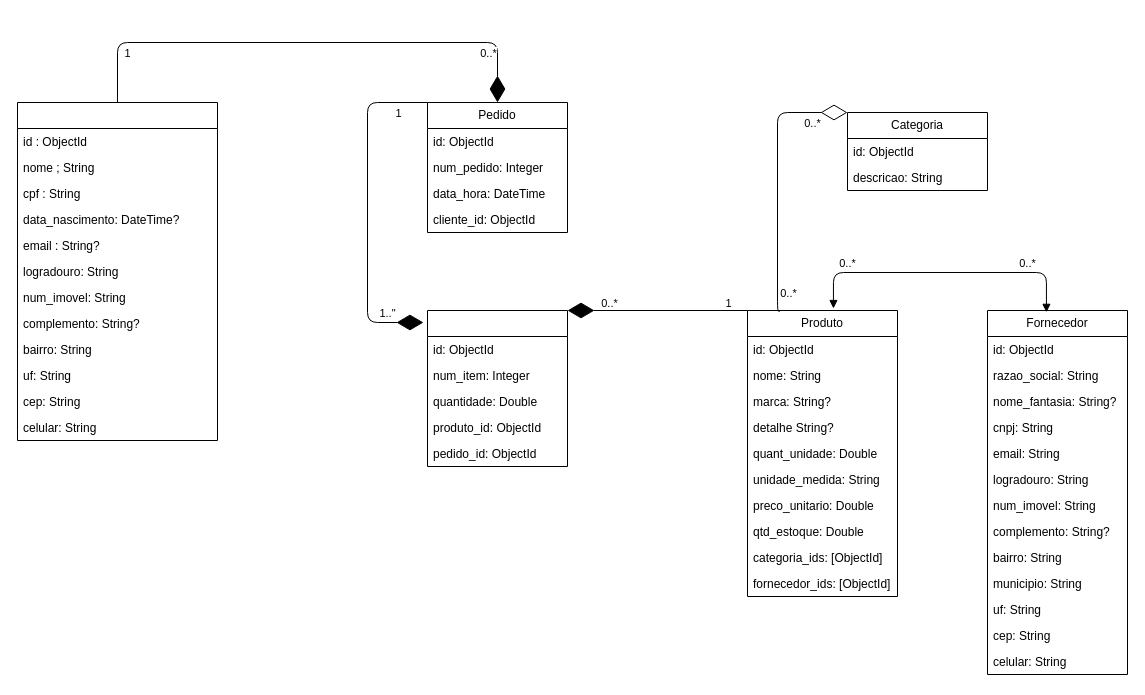
Some shapes in this 1145 by 695 pixel diagram are drawn without their labels. Here are the shapes that lost their labels. From the top down, the box of each, then its label:
(16, 102, 218, 440): Cliente
(426, 310, 568, 466): ItemPedido
